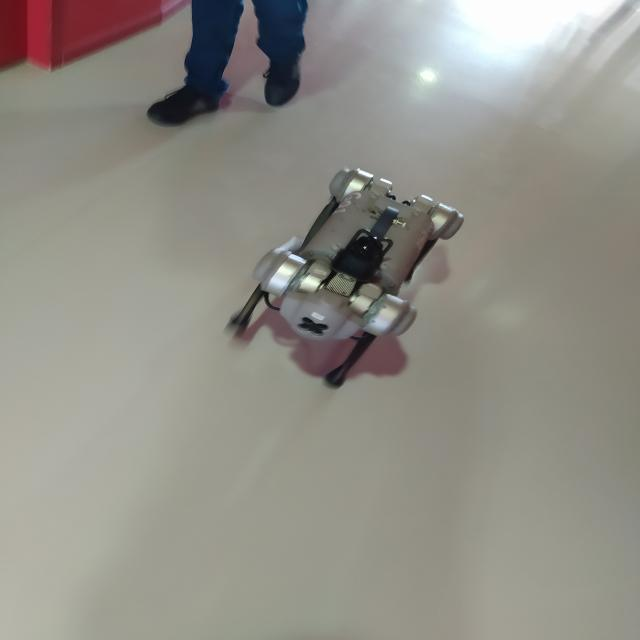unitree-go1-robot: (210, 159, 482, 403)
